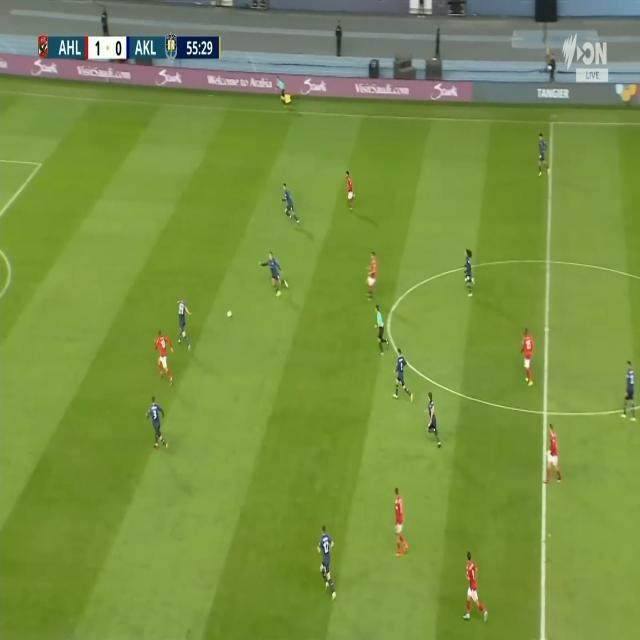Ball: (226, 310, 234, 323)
Player: (318, 522, 340, 604), (255, 249, 290, 297), (466, 550, 488, 622), (145, 392, 171, 452), (392, 484, 413, 558), (542, 419, 564, 487), (152, 326, 177, 384), (424, 388, 444, 449), (172, 298, 195, 349), (620, 361, 638, 426), (519, 326, 537, 390), (391, 348, 413, 399), (278, 184, 300, 228), (462, 242, 476, 301), (364, 250, 380, 300), (342, 164, 357, 210), (536, 133, 550, 178)
Ref: (374, 300, 391, 357), (274, 72, 294, 107)
